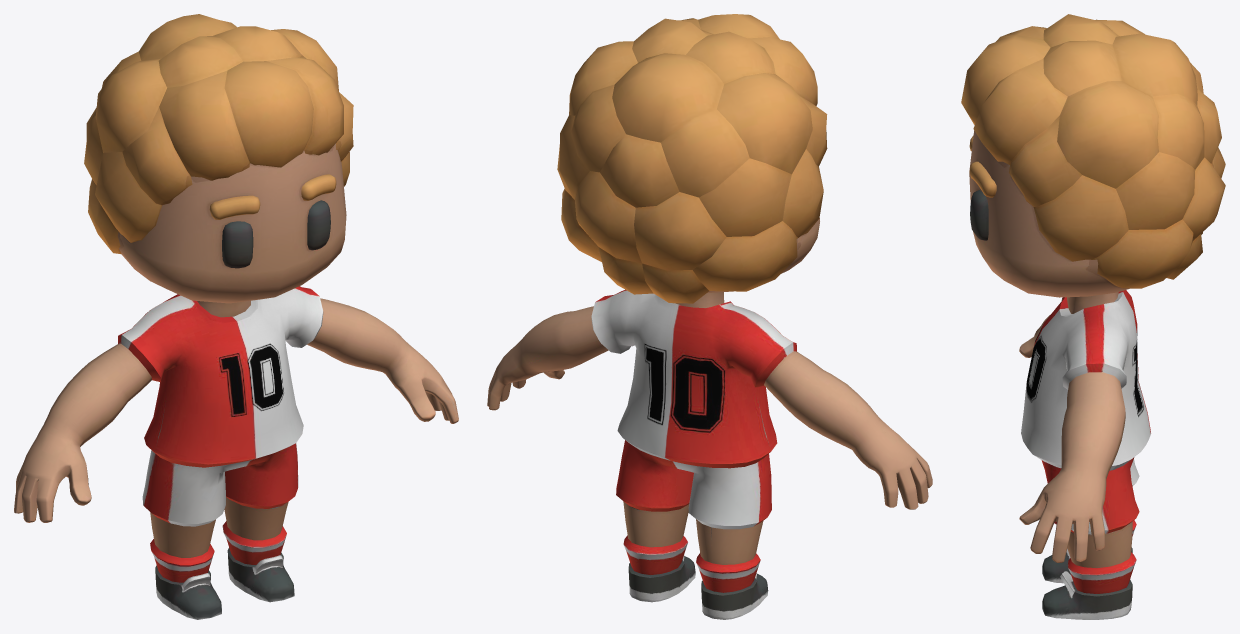
File: CharacterB.gltf
The picture shows the model from 3 angles, left to right: view 1: azimuth 30°, elevation 25°; view 2: azimuth 150°, elevation 25°; view 3: azimuth 270°, elevation 25°; orthographic projection.
Visible parts, largest first — view 1: Footballer; view 2: Footballer; view 3: Footballer.
Boxes of the visible parts, x1,y1,x2,y2 form: Footballer: [14, 14, 458, 619]; Footballer: [487, 14, 932, 619]; Footballer: [961, 14, 1225, 619].
Size of the model in its own units: 1.69 by 2.1 by 0.9051.
1 material, 1 textured.
